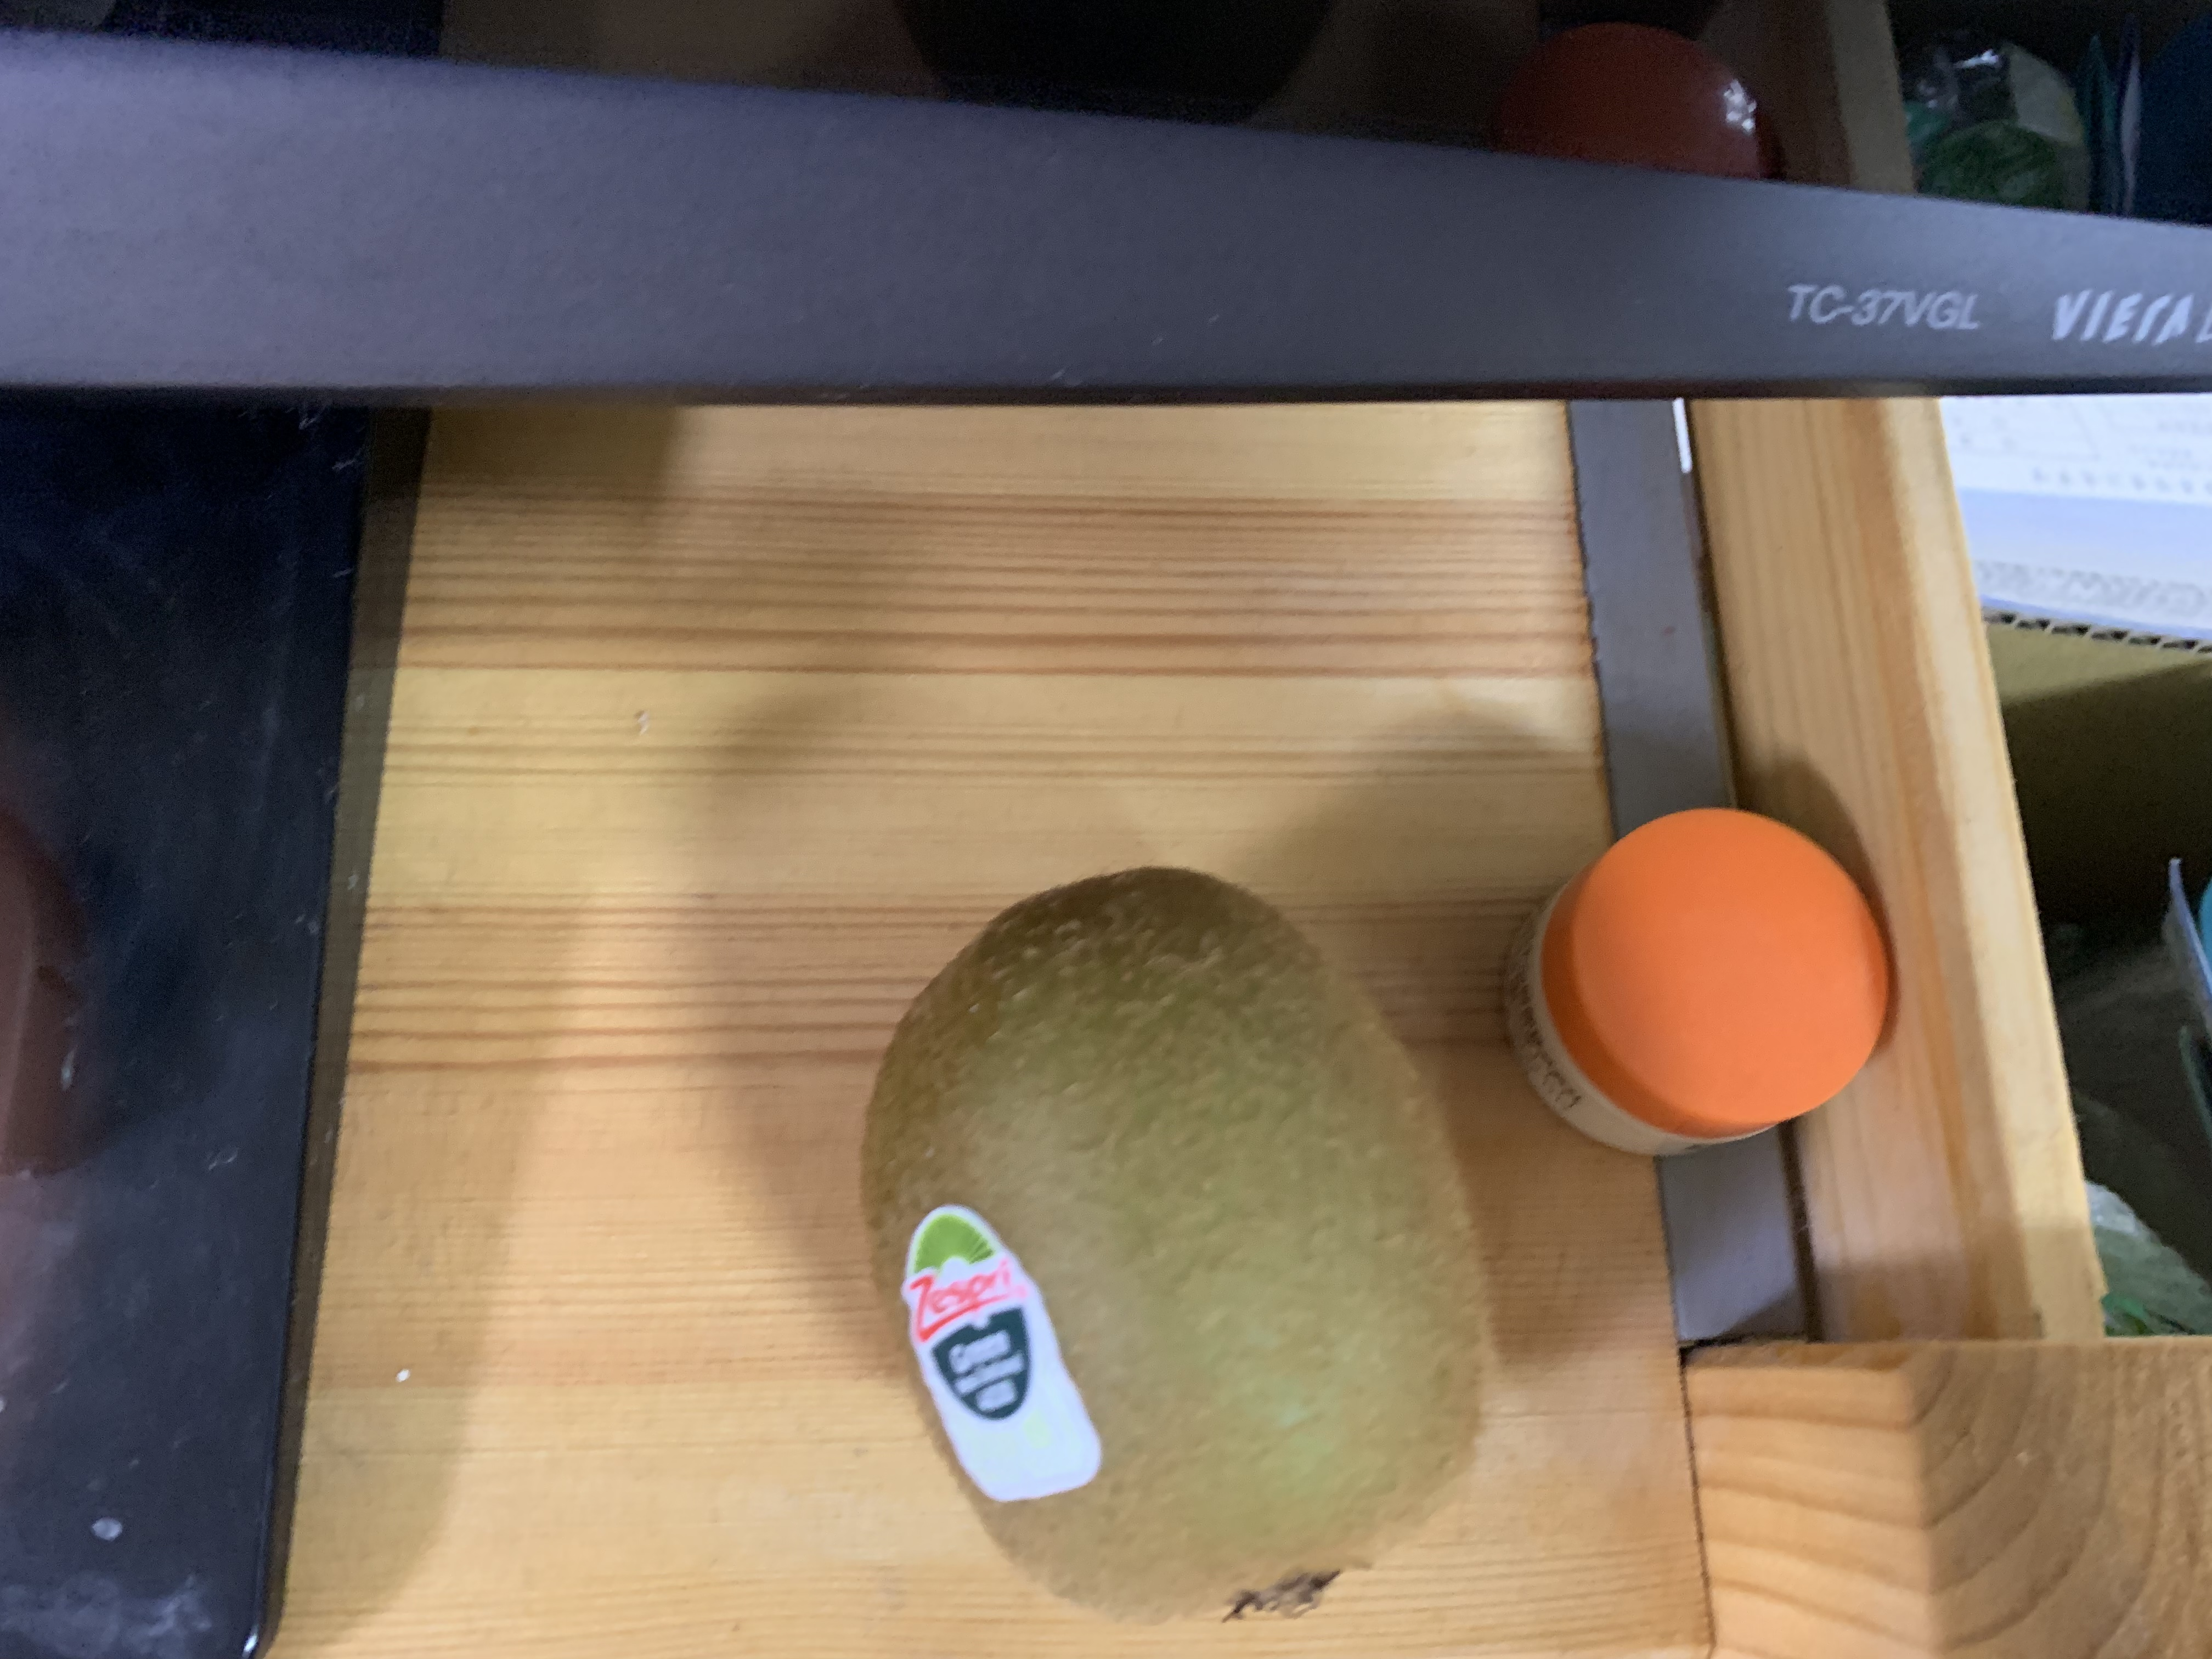kiwi: (859, 868, 1480, 1614)
